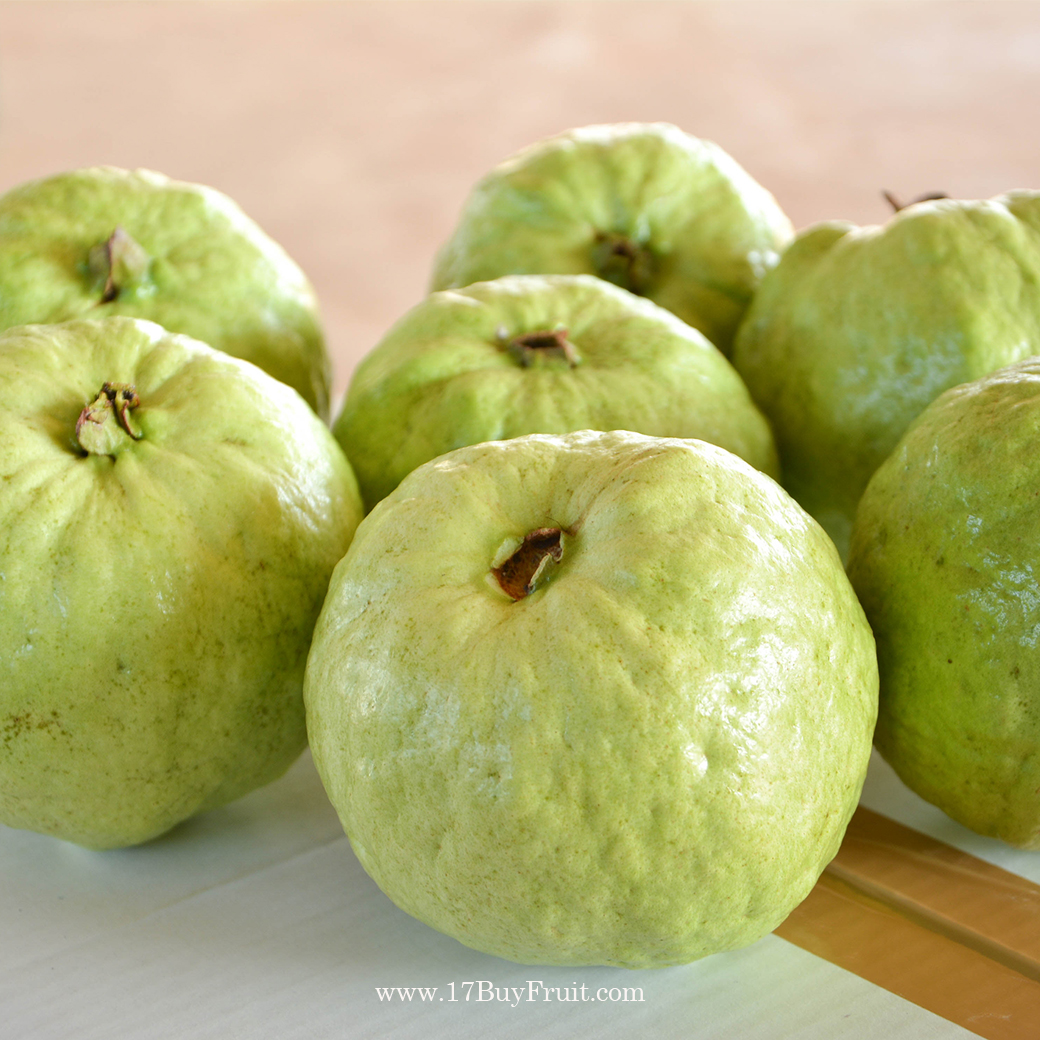guava: (307, 426, 887, 970), (1, 315, 356, 855)
